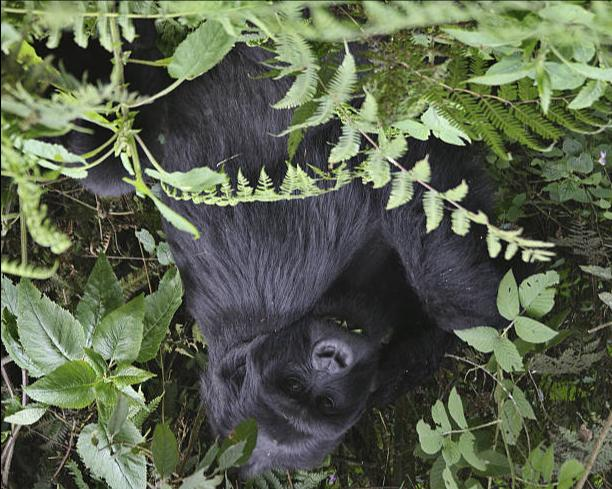goriile_montagne: (59, 68, 536, 488)
